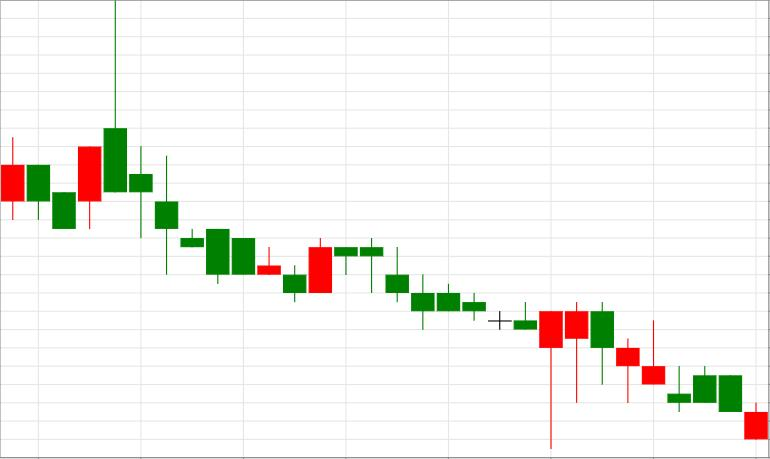hammer_rise: (334, 236, 562, 449)
